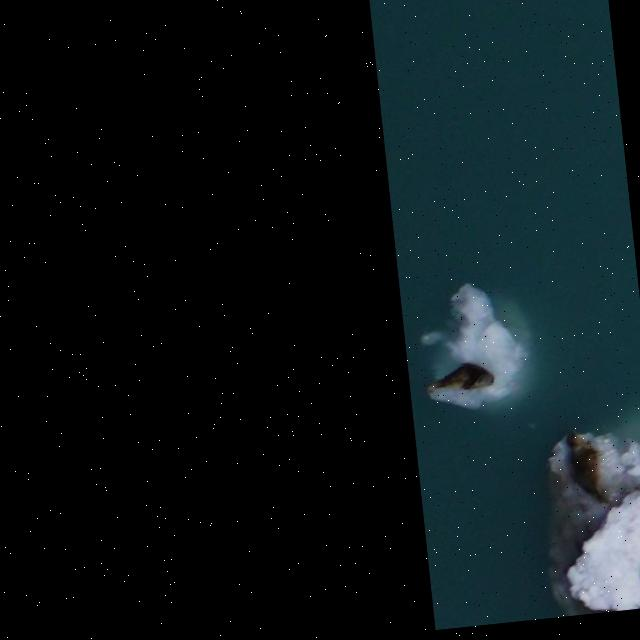seal: (561, 427, 610, 512), (423, 361, 493, 393)
